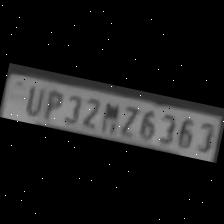2: (76, 92, 102, 128)
3: (192, 116, 218, 152), (153, 107, 178, 144), (59, 88, 84, 124)
6: (133, 104, 160, 140), (171, 112, 197, 148)
M: (96, 96, 122, 132)
P: (38, 85, 64, 120)
U: (18, 80, 44, 116)
Z: (114, 100, 140, 136)
